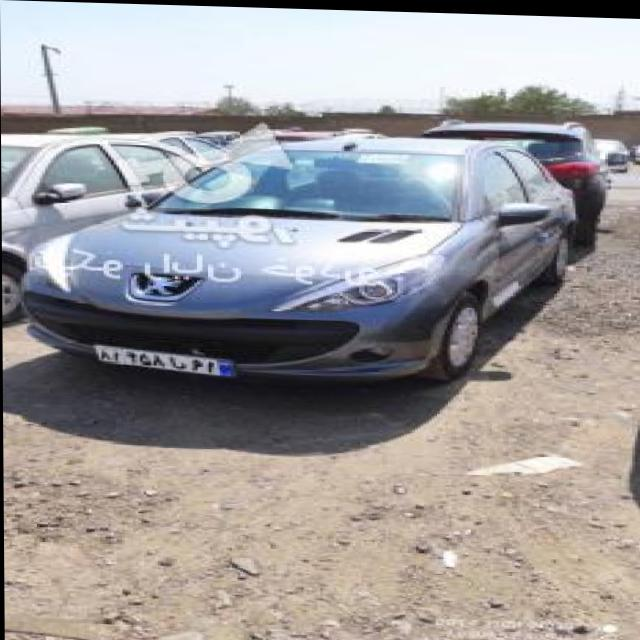licence: (90, 341, 241, 378)
